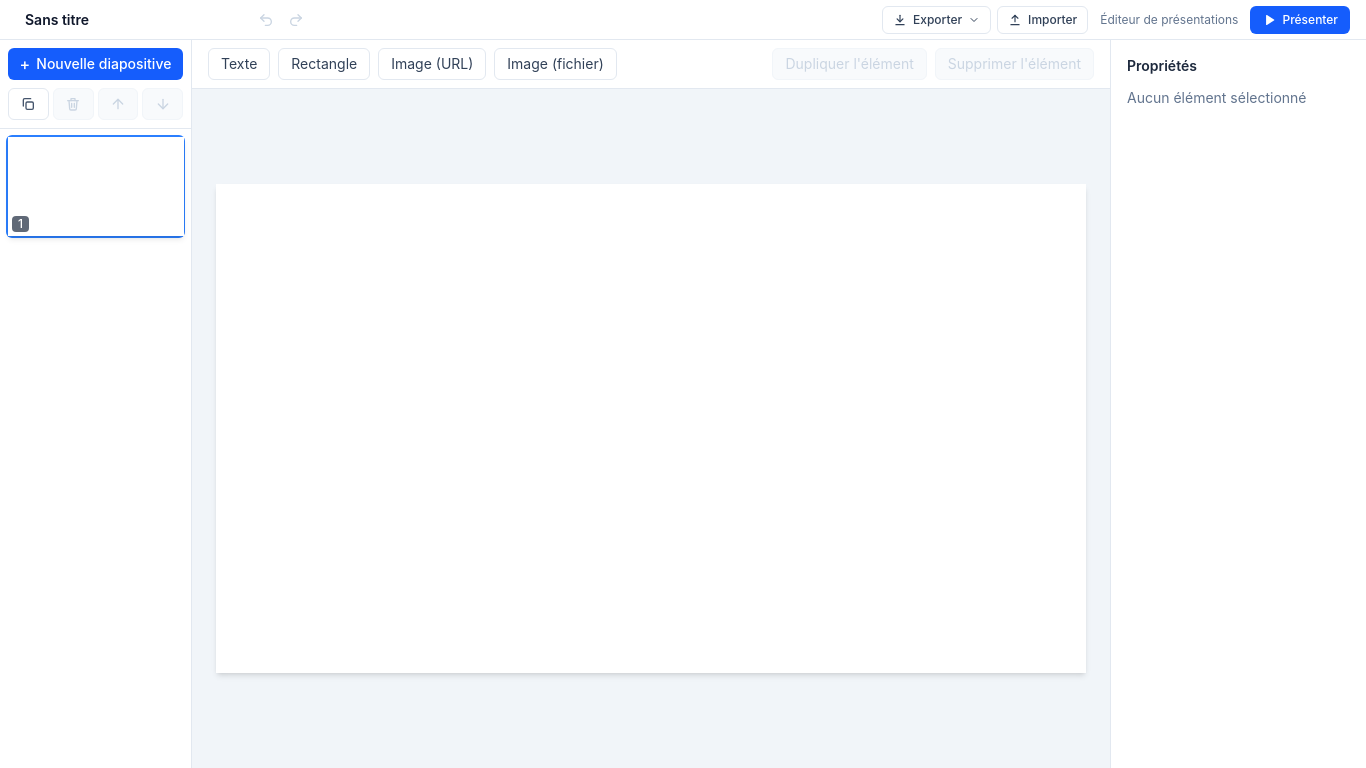
Scenario: EditorLayout : ordre d'empilement › un élément seul a les quatre boutons désactivés
The width and height of the screenshot is (1366, 768).
Click the button "Rectangle".
click(324, 64)  # box [278,48,370,80]
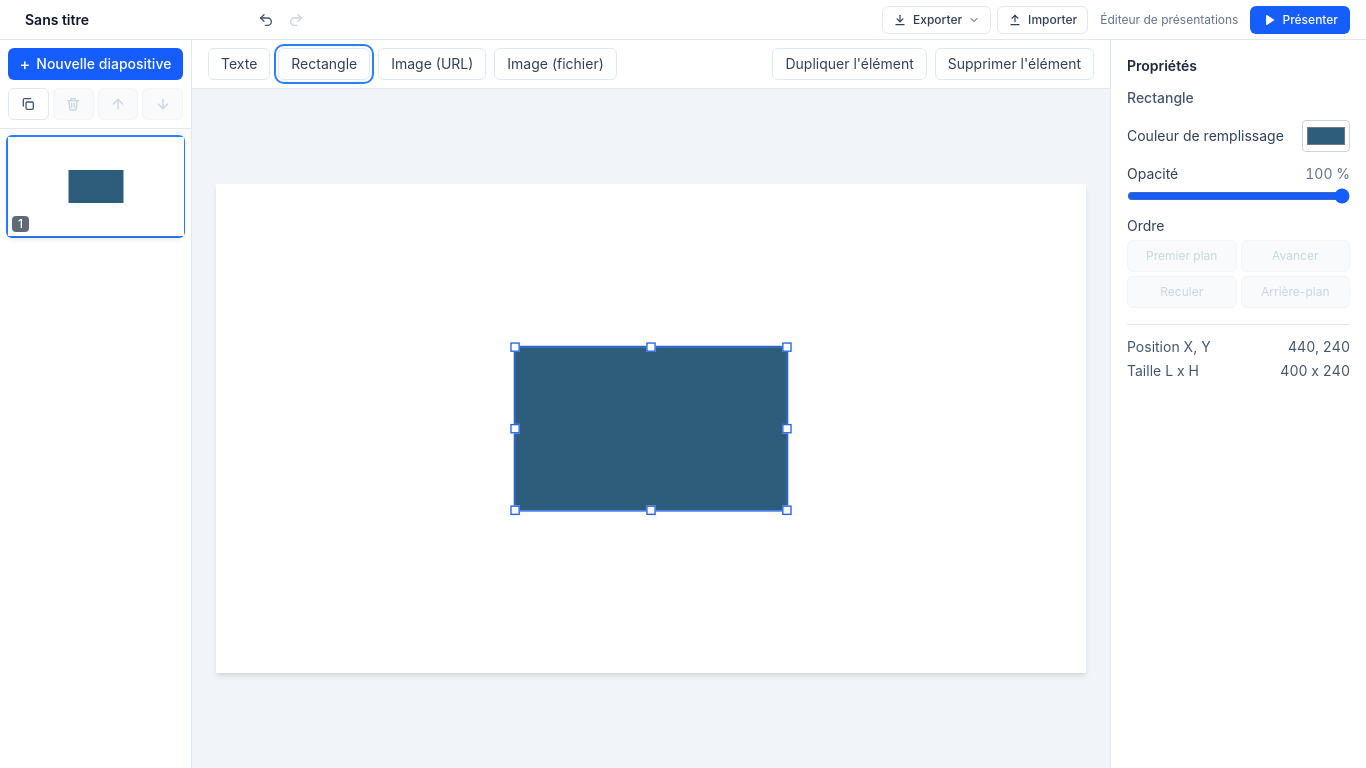
expect the button "Premier plan" is disabled: met, box [1127,240,1236,272]
expect the button "Avancer" is disabled: met, box [1240,240,1350,272]
expect the button "Reculer" is disabled: met, box [1127,276,1236,308]
